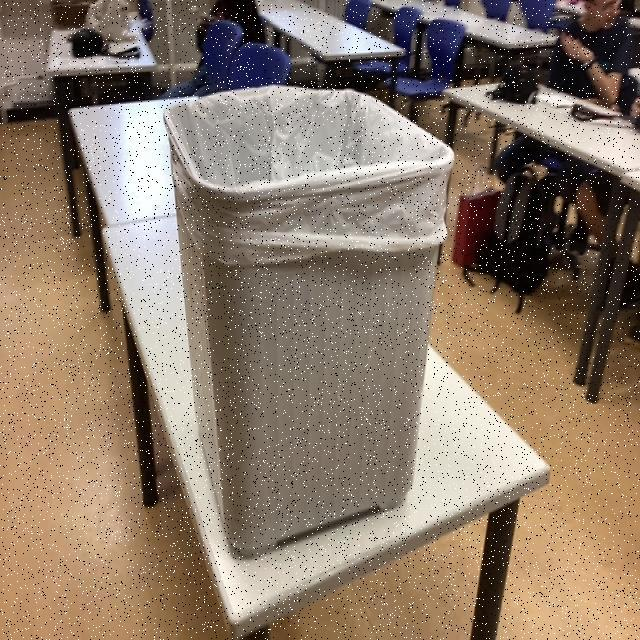garbage container: (116, 53, 481, 554)
